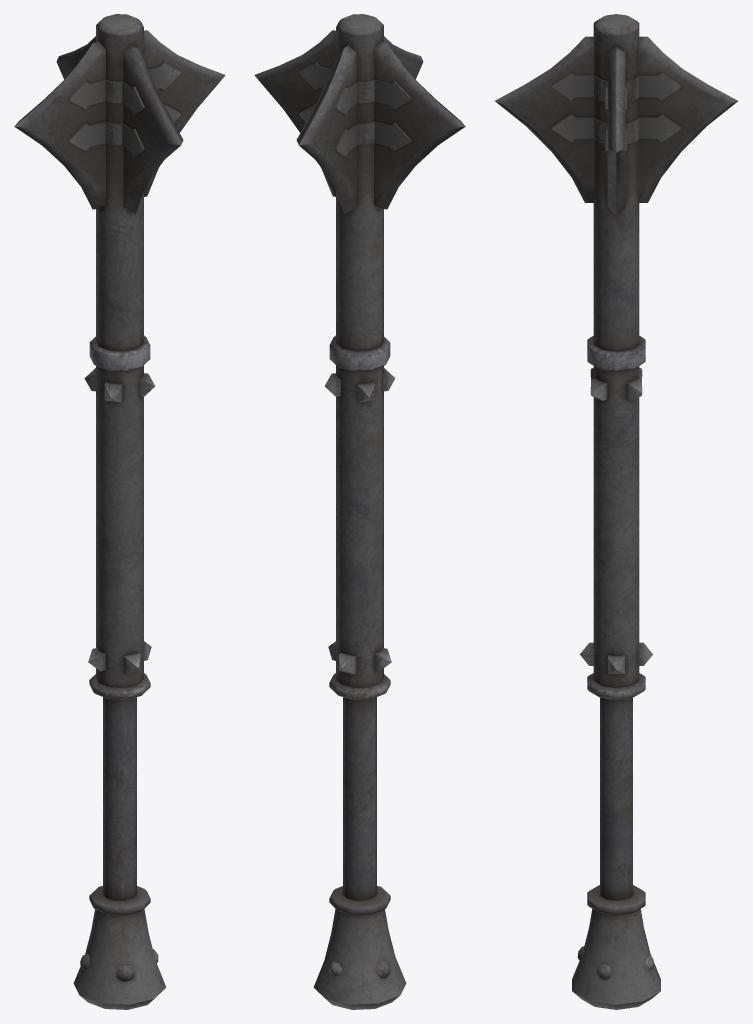
Rendered from Mace 1.fbx.
3 renders of one model, left to right at view 1: azimuth 30°, elevation 25°; view 2: azimuth 150°, elevation 25°; view 3: azimuth 270°, elevation 25°, orthographic.
Visible parts, largest first — view 1: Mace_1; view 2: Mace_1; view 3: Mace_1.
Part boxes in pixels (<box>): Mace_1: <box>14,14,225,1009</box>; Mace_1: <box>254,14,465,1009</box>; Mace_1: <box>495,14,737,1009</box>.
Size of the model in its own units: 28.97 by 127 by 28.97.
Materials: 1 (1 with a texture image).
